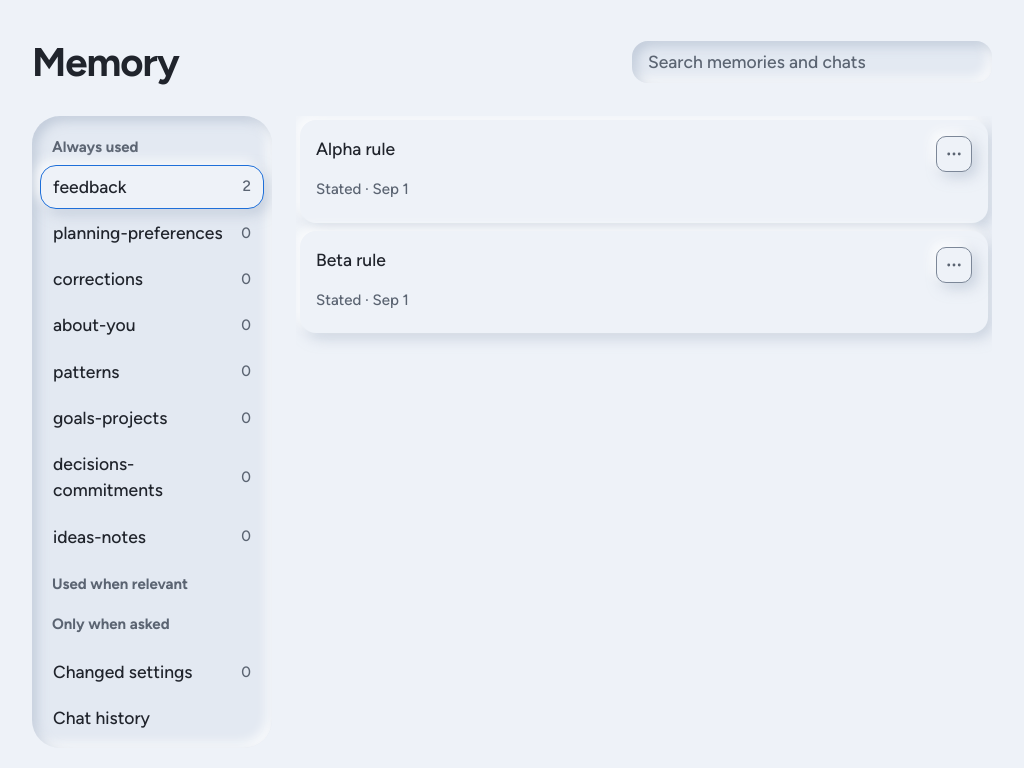
Test case: Memory item delete flow › a failed send re-shows the row with the error
Expected: the button "Alpha rule" is shown, [316, 136, 892, 162]
Click the button named "More actions for Alpha rule".
click(954, 154)  # box [936, 136, 972, 172]
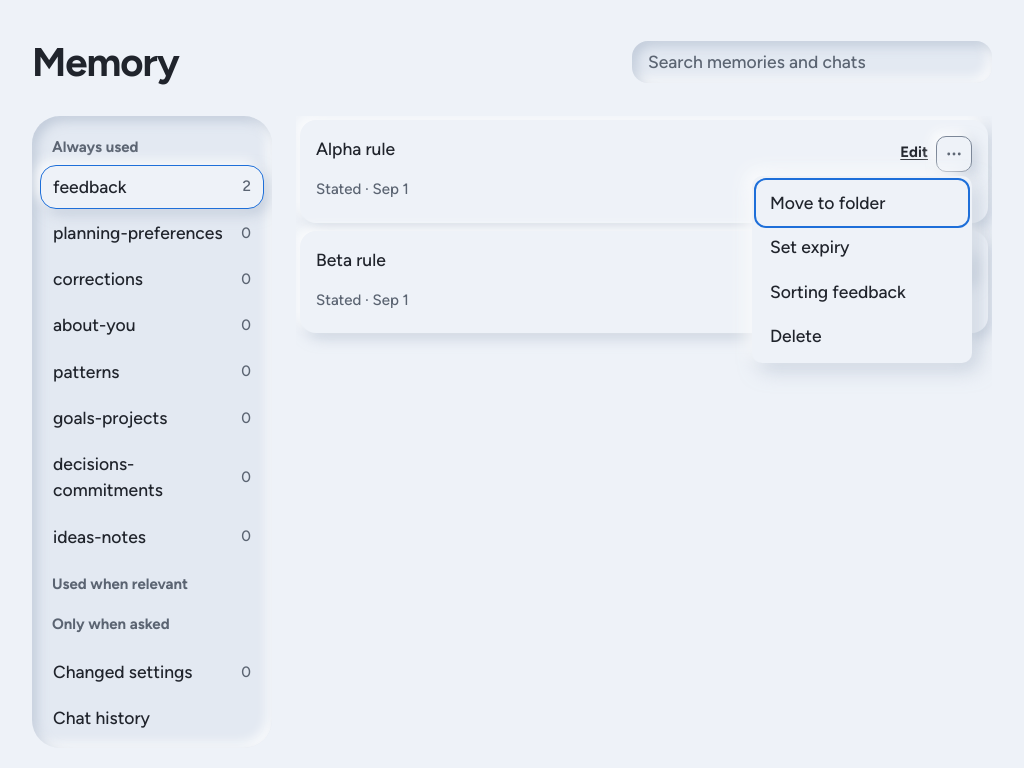
Click the menu item "Delete".
click(862, 336)  # box [758, 315, 966, 357]
Wait 6100 ms
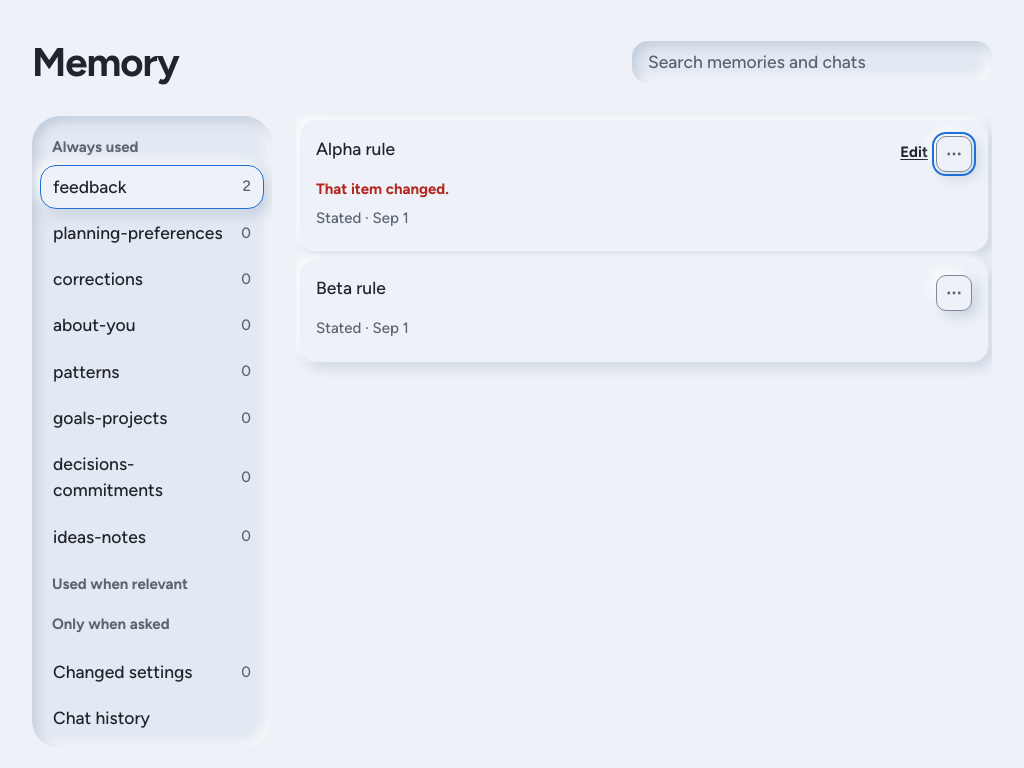
Expected: the message reads "That item changed.", [316, 180, 449, 198]
